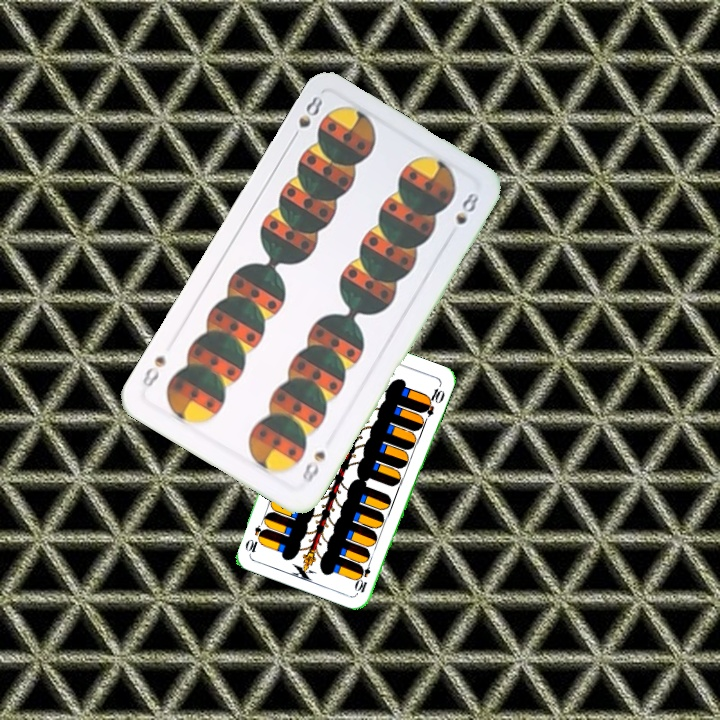E10: (353, 555, 374, 595)
S8: (286, 91, 326, 145), (298, 446, 328, 486)
